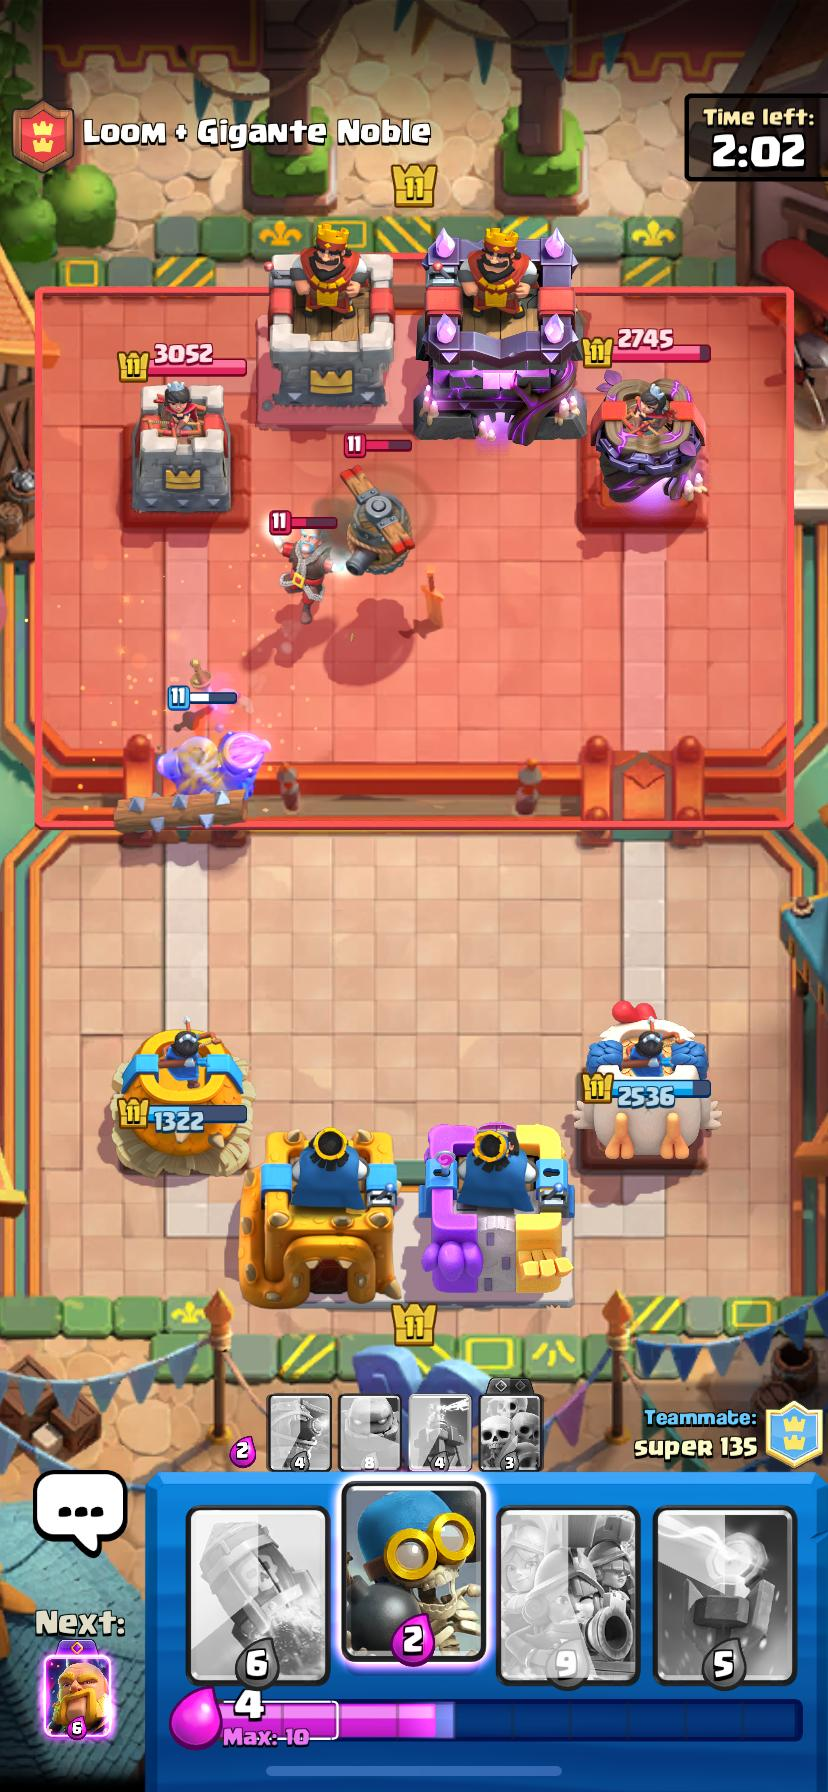EFlyingMachine: (343, 470, 414, 575)
EIceWizard: (280, 529, 331, 624)
EKingTower: (414, 224, 586, 445), (263, 223, 393, 410)
EnemyPrincessTower: (583, 379, 706, 526), (132, 379, 231, 515)
OFurnace: (157, 731, 270, 790)
OwnKingTower: (240, 1127, 403, 1306), (419, 1123, 573, 1301)
OwnPrincessTower: (576, 1001, 711, 1167), (111, 1022, 253, 1175)
